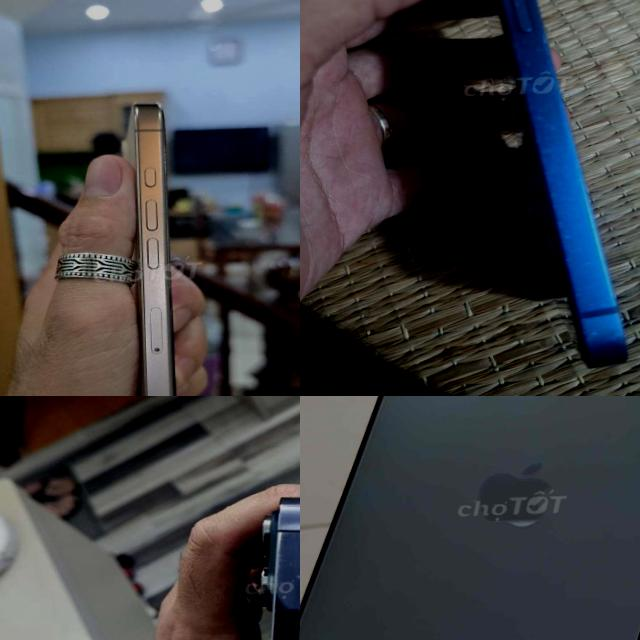gen_12_13: (300, 396, 640, 640), (440, 0, 640, 382)
gen_14: (232, 480, 300, 640)
gen_16: (98, 87, 215, 396)
scratch: (502, 41, 612, 327), (250, 525, 283, 640), (294, 513, 300, 543)
